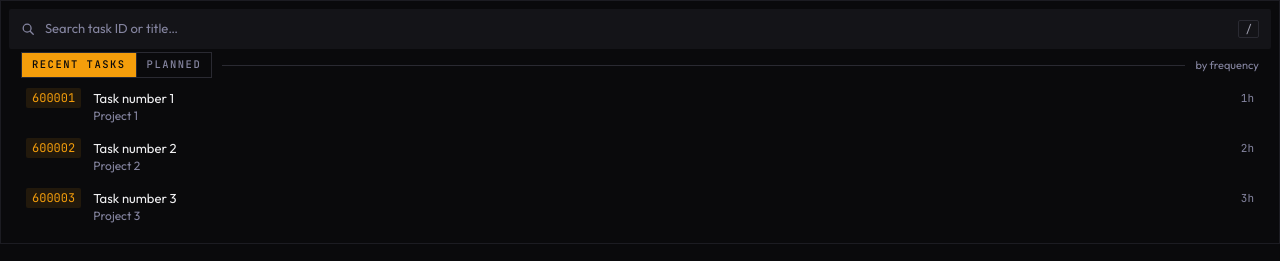
Test: TaskPicker — Planned › opens on Recent when nothing is planned, with an empty-state line on Planned
Expected: the number of options is 3, x1=13 y1=81 x2=1267 y2=131; x1=13 y1=131 x2=1267 y2=181; x1=13 y1=181 x2=1267 y2=231
Click the button "Planned".
click(173, 65)  # box x1=136 y1=53 x2=211 y2=77
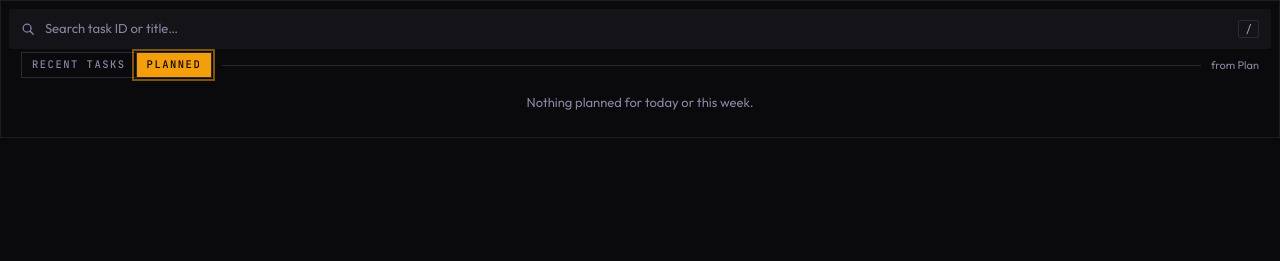
Now no options are shown
Now the text "Nothing planned for today or this week." is shown, box x1=526 y1=94 x2=754 y2=110
